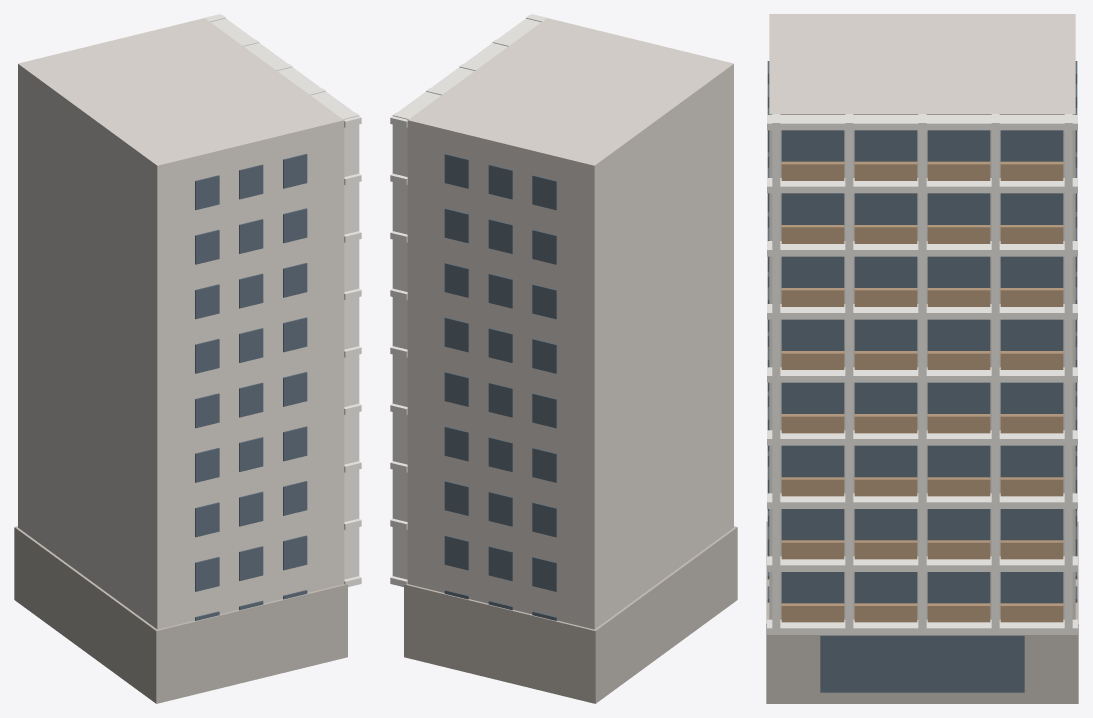
File: rambla_building_13.glb
3 views of the same model, side by side, from view 1: azimuth 30°, elevation 25°; view 2: azimuth 150°, elevation 25°; view 3: azimuth 270°, elevation 25° (orthographic). The views are drawn at different scales.
Parts seen in each view (by area): view 1: RamblaBuilding_13; view 2: RamblaBuilding_13; view 3: RamblaBuilding_13.
Boxes of the visible parts, x1,y1,x2,y2 form: RamblaBuilding_13: (14, 14, 361, 703); RamblaBuilding_13: (390, 14, 737, 703); RamblaBuilding_13: (766, 14, 1078, 703).
Size of the model in its own units: 11.22 by 28 by 13.45.
